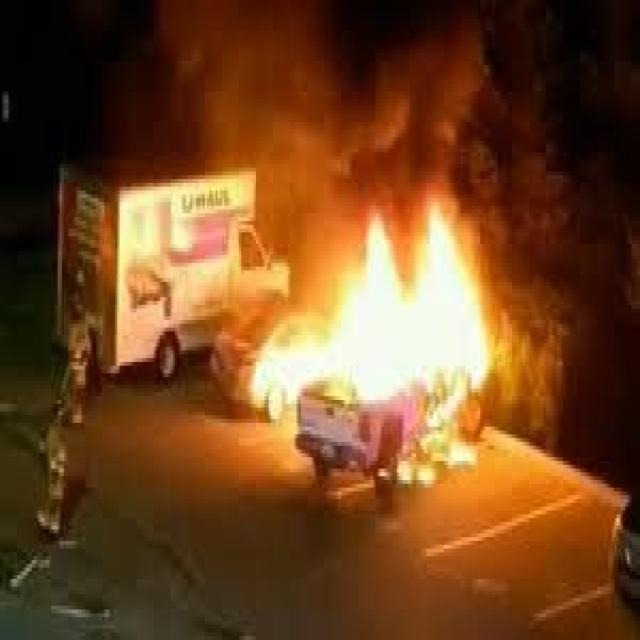fire: (263, 207, 513, 471)
